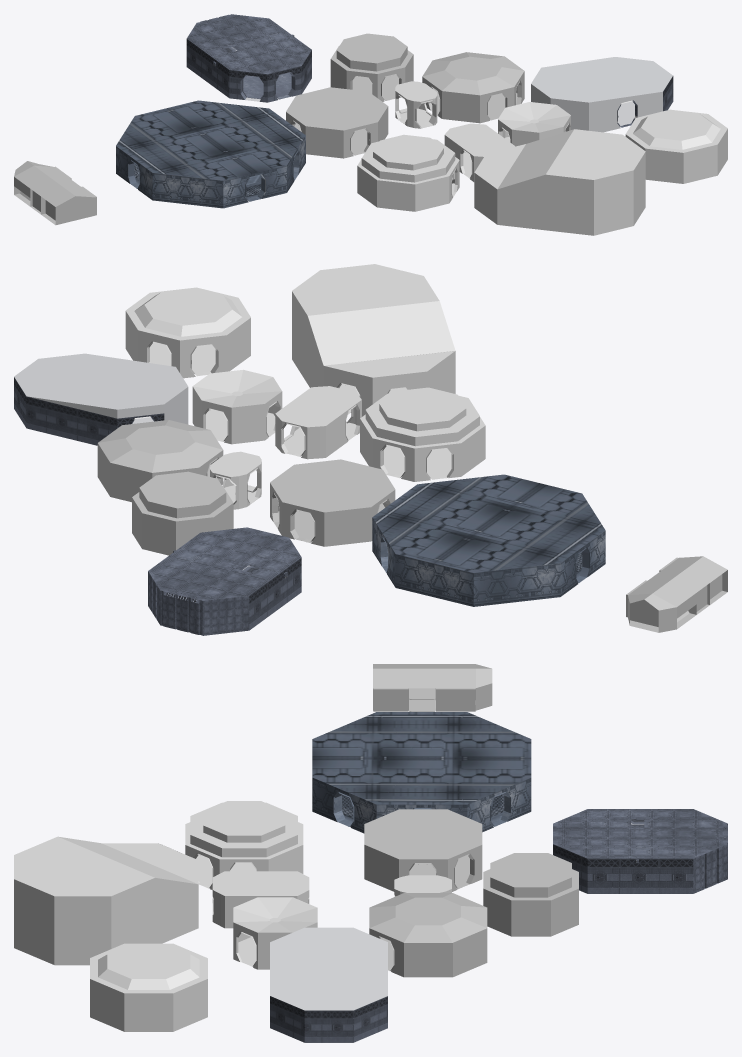
The model's file is Rooms.fbx.
3 renders of one model, top to bottom at view 1: azimuth 30°, elevation 25°; view 2: azimuth 150°, elevation 25°; view 3: azimuth 270°, elevation 25°, orthographic. The views are drawn at different scales.
Visible parts, largest first — view 1: Circle.019, Circle.010, Circle.018, Circle.014, Circle.015, Circle.011, Circle.013, Circle.017, Circle.016, Cube.040, Circle.012, Cube.046 (+1 smaller); view 2: Circle.019, Circle.010, Circle.018, Circle.014, Circle.015, Circle.011, Circle.017, Circle.013, Circle.016, Circle.012, Cube.040, Cube.046 (+1 smaller); view 3: Circle.019, Circle.010, Circle.018, Circle.014, Circle.011, Circle.013, Circle.017, Circle.015, Circle.016, Cube.040, Circle.012, Cube.046 (+1 smaller).
Part boxes in pixels (x1,y1,x2,y2): Circle.019: (116, 100, 305, 208); Circle.010: (474, 129, 645, 235); Circle.018: (186, 14, 311, 102); Circle.014: (531, 57, 673, 132); Circle.015: (357, 134, 459, 211); Circle.011: (625, 109, 727, 183); Circle.013: (422, 52, 524, 123); Circle.017: (286, 87, 388, 158); Circle.016: (330, 33, 413, 101); Cube.040: (14, 161, 96, 225); Circle.012: (498, 102, 570, 146); Cube.046: (444, 123, 515, 181); Circle.019: (372, 474, 605, 606); Circle.010: (292, 264, 455, 416); Circle.018: (148, 527, 301, 635); Circle.014: (14, 353, 188, 445); Circle.015: (360, 387, 485, 481); Circle.011: (125, 287, 250, 378); Circle.017: (270, 459, 395, 546); Circle.013: (97, 420, 223, 502); Circle.016: (132, 471, 233, 555); Circle.012: (192, 369, 282, 444); Cube.040: (626, 556, 727, 632); Cube.046: (275, 386, 361, 459); Circle.019: (312, 712, 531, 833); Circle.010: (14, 836, 198, 965); Circle.018: (553, 809, 727, 893); Circle.014: (270, 927, 387, 1042); Circle.011: (90, 943, 207, 1031); Circle.013: (369, 893, 487, 977); Circle.017: (364, 809, 482, 891); Circle.015: (185, 801, 303, 889); Circle.016: (483, 853, 578, 936); Cube.040: (373, 664, 492, 711); Circle.012: (233, 897, 317, 969); Cube.046: (212, 871, 309, 928).
Size of the model in its own units: 462 by 42.22 by 391.
